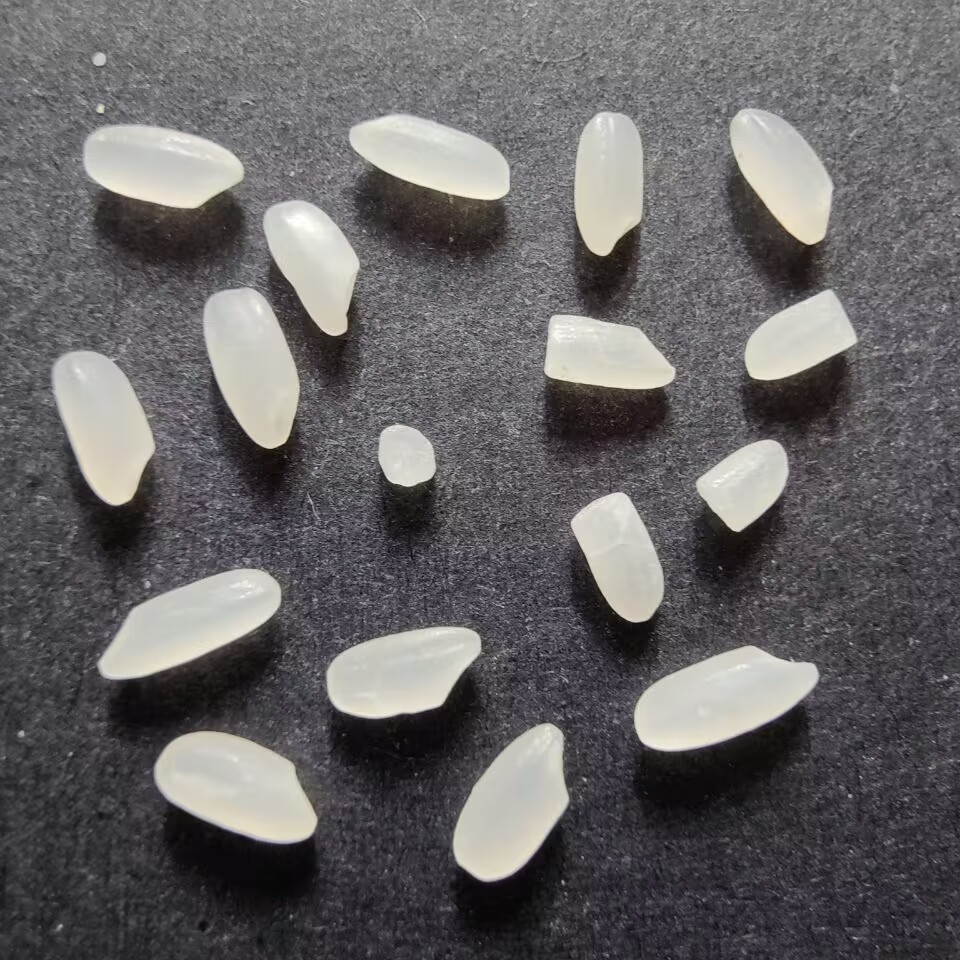broken: (566, 488, 664, 627), (739, 283, 860, 387), (540, 308, 679, 393), (689, 435, 791, 536), (372, 422, 441, 493)
rice: (91, 562, 284, 685), (144, 728, 319, 852), (630, 642, 822, 755), (446, 718, 567, 888), (49, 348, 161, 512), (199, 282, 301, 454), (74, 120, 247, 214), (321, 623, 487, 720), (725, 103, 836, 248), (345, 113, 515, 206), (258, 199, 365, 342), (567, 109, 646, 257)
